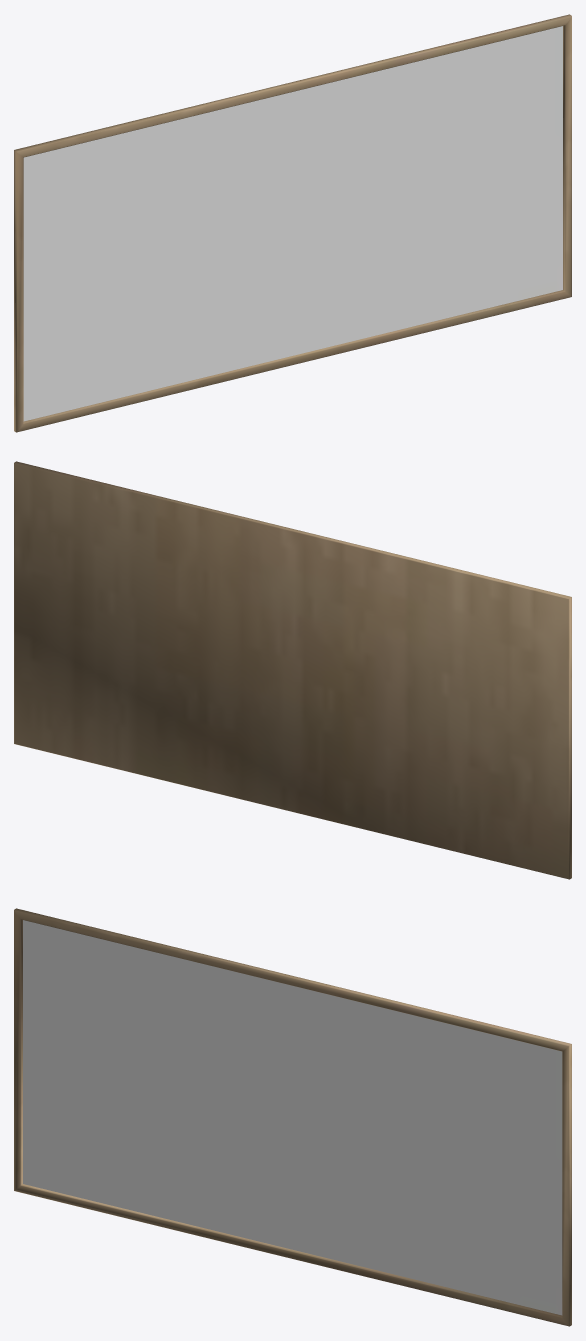
The model's file is whiteboard.glb.
3 renders of one model, top to bottom at view 1: azimuth 30°, elevation 25°; view 2: azimuth 150°, elevation 25°; view 3: azimuth 330°, elevation 25°, orthographic.
Visible parts, largest first — view 1: Blackboard_Q; view 2: Blackboard_Q; view 3: Blackboard_Q.
Boxes of the visible parts, box(x1,y1,x2,y2) form: Blackboard_Q: box(14, 14, 571, 432); Blackboard_Q: box(14, 461, 571, 879); Blackboard_Q: box(14, 908, 571, 1326).
Bounding box in the file's own units: 1.21 × 0.5823 × 0.0113.
Materials: 1 (1 with a texture image).
